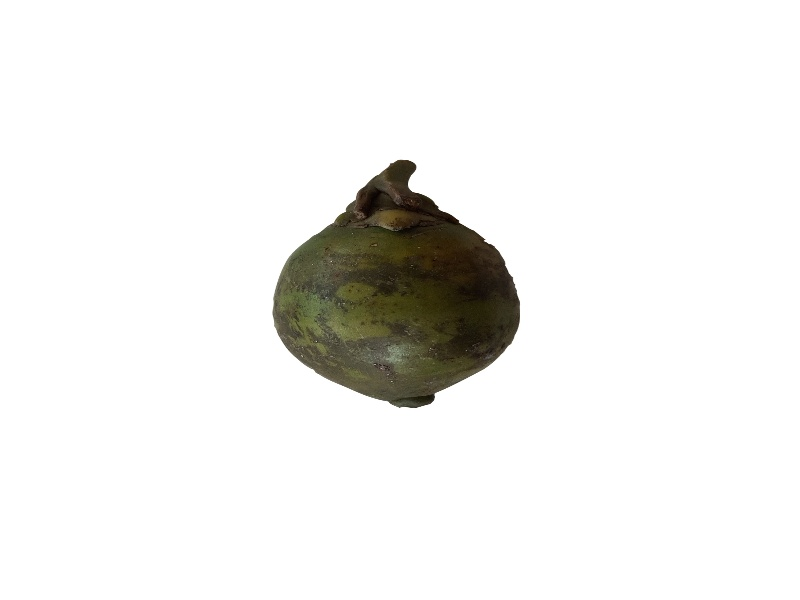arecanut: (261, 210, 536, 415)
